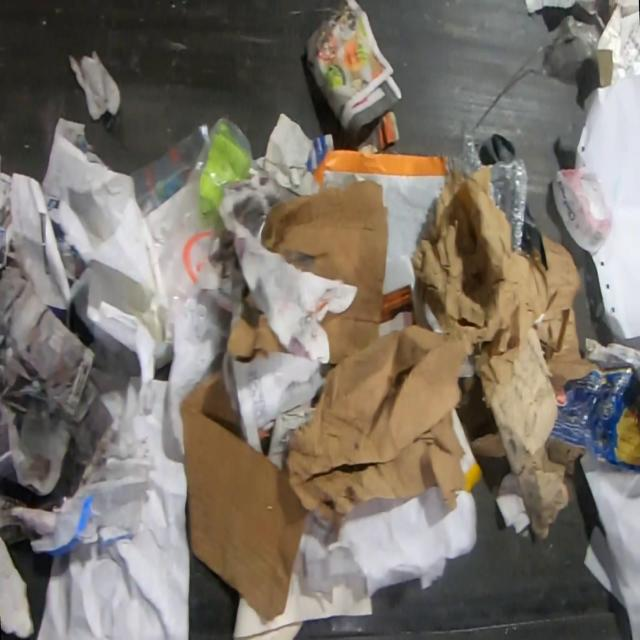cardboard: (286, 324, 466, 540), (181, 371, 310, 620), (262, 179, 388, 363), (548, 367, 640, 472), (540, 228, 592, 389), (222, 278, 296, 368)
rigid_plastic: (129, 115, 253, 296)
soft_plastic: (449, 124, 529, 251), (552, 165, 614, 254), (522, 201, 546, 267), (477, 129, 517, 166)
